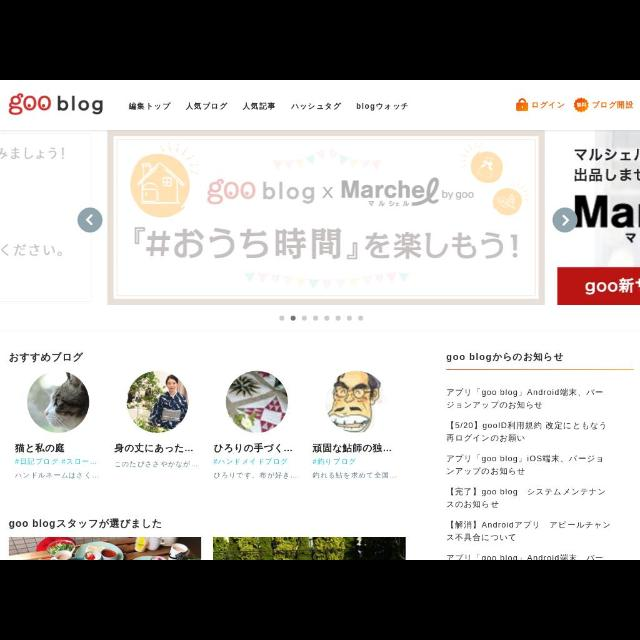button: (552, 208, 578, 232), (78, 208, 102, 232)
icon: (516, 98, 528, 112)
image: (1, 130, 640, 304), (9, 538, 201, 560), (213, 538, 405, 560), (127, 371, 189, 433), (226, 372, 288, 434), (29, 372, 90, 434), (324, 371, 384, 433), (10, 94, 102, 114), (574, 98, 588, 112)
pageindicator: (279, 314, 363, 322)
text: (448, 520, 610, 542), (447, 388, 603, 410), (447, 421, 605, 442), (448, 488, 604, 508), (448, 454, 602, 474), (214, 444, 298, 480), (312, 443, 396, 479), (15, 444, 99, 478), (114, 443, 200, 469), (10, 518, 162, 528), (446, 352, 562, 362), (448, 554, 604, 560), (9, 352, 82, 362), (128, 102, 172, 110), (592, 101, 634, 109), (186, 102, 227, 110), (290, 104, 342, 110), (357, 104, 408, 110), (243, 102, 275, 110), (532, 101, 564, 109), (576, 102, 586, 108)
toolbar: (128, 98, 636, 112)
